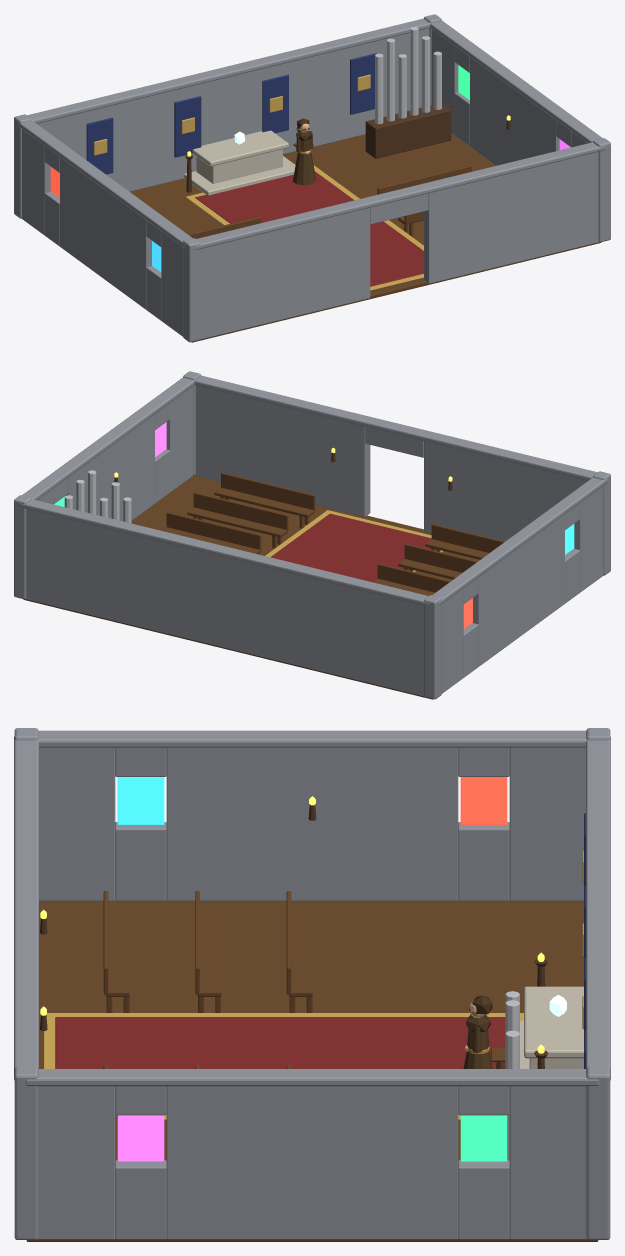
The model's file is chapel.glb.
3 renders of one model, top to bottom at view 1: azimuth 30°, elevation 25°; view 2: azimuth 150°, elevation 25°; view 3: azimuth 270°, elevation 25°, orthographic. The views are drawn at different scales.
Visible parts, largest first — view 1: Cube.001, Cube.005, Cube.003, Cube, Cube.018, Cube.028, Cube.010, Cube.006, Cube.002, Cube.031, Cube.022, Cube.014 (+27 smaller); view 2: Cube.001, Cube.005, Cube.003, Cube.018, Cube.028, Cube.010, Cube.002, Cube.006, Cube, Cube.022, Cube.014, Cube.013 (+21 smaller); view 3: Cube, Cube.018, Cube.010, Cube.028, Cube.007, Cube.013, Cube.021, Cube.015, Cube.014, Cube.022, Cube.002, Cube.006 (+19 smaller).
Part boxes in pixels (left/top/right/bottom): Cube.001: left=37, top=28, right=429, bottom=191; Cube.005: left=424, top=152, right=598, bottom=283; Cube.003: left=201, top=207, right=370, bottom=339; Cube: left=130, top=133, right=601, bottom=342; Cube.018: left=60, top=157, right=151, bottom=309; Cube.028: left=195, top=171, right=423, bottom=286; Cube.010: left=470, top=57, right=559, bottom=165; Cube.006: left=195, top=142, right=605, bottom=249; Cube.002: left=27, top=18, right=430, bottom=123; Cube.031: left=365, top=103, right=451, bottom=158; Cube.022: left=16, top=120, right=192, bottom=248; Cube.014: left=430, top=20, right=602, bottom=143; Cube.001: left=26, top=509, right=423, bottom=696; Cube.005: left=195, top=385, right=370, bottom=516; Cube.003: left=424, top=441, right=587, bottom=541; Cube.018: left=473, top=514, right=564, bottom=666; Cube.028: left=270, top=513, right=436, bottom=582; Cube.010: left=66, top=414, right=154, bottom=521; Cube.002: left=19, top=499, right=429, bottom=606; Cube.006: left=194, top=375, right=597, bottom=480; Cube: left=23, top=475, right=479, bottom=699; Cube.022: left=432, top=477, right=608, bottom=605; Cube.014: left=22, top=377, right=194, bottom=500; Cube.013: left=166, top=386, right=193, bottom=492; Cube: left=26, top=900, right=598, bottom=1241; Cube.018: left=166, top=747, right=458, bottom=901; Cube.010: left=166, top=1086, right=458, bottom=1239; Cube.028: left=55, top=1017, right=505, bottom=1068; Cube.007: left=509, top=1086, right=587, bottom=1239; Cube.013: left=37, top=1086, right=115, bottom=1239; Cube.021: left=39, top=747, right=115, bottom=901; Cube.015: left=509, top=747, right=585, bottom=901; Cube.014: left=25, top=1069, right=599, bottom=1086; Cube.022: left=38, top=730, right=586, bottom=747; Cube.002: left=586, top=736, right=610, bottom=1080; Cube.006: left=14, top=736, right=38, bottom=1080.
Bounding box in the file's own units: 14.44 × 3.92 × 10.44.
